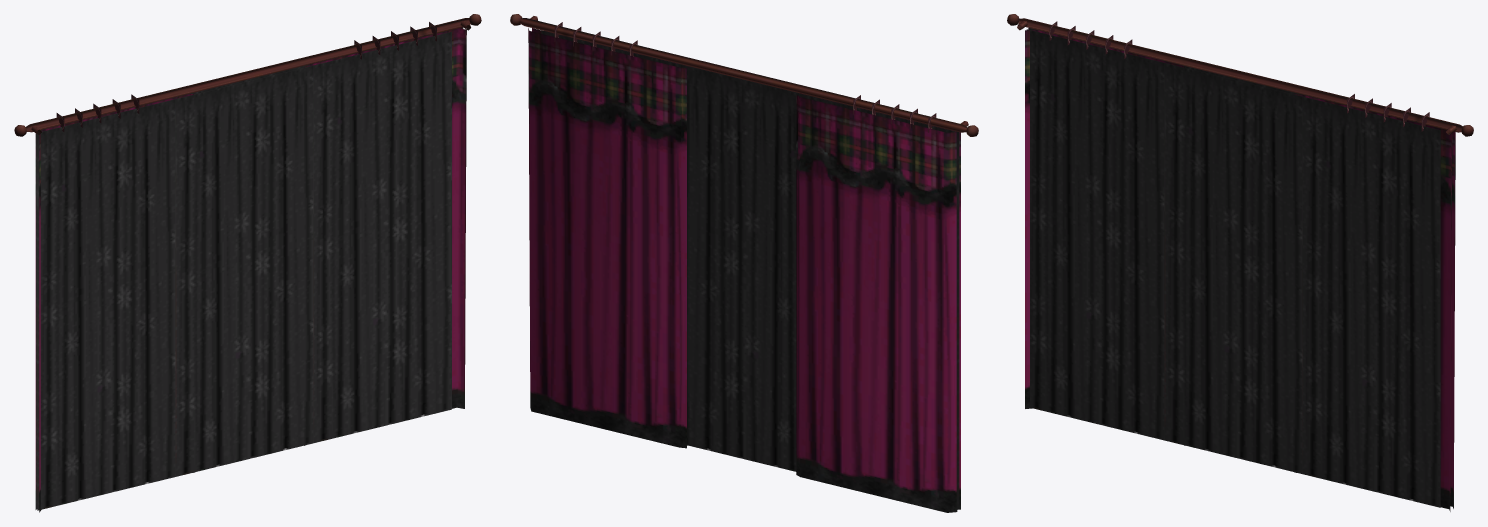
Rendered from furni_0200331.FBX.
3 renders of one model, left to right at view 1: azimuth 30°, elevation 25°; view 2: azimuth 150°, elevation 25°; view 3: azimuth 330°, elevation 25°, orthographic.
Visible parts, largest first — view 1: furni_0200331; view 2: furni_0200331; view 3: furni_0200331.
Boxes of the visible parts, bbox=[...] form: furni_0200331: bbox=[14, 14, 481, 512]; furni_0200331: bbox=[510, 14, 978, 512]; furni_0200331: bbox=[1007, 14, 1473, 511].
Size of the model in its own units: 353 by 282 by 13.37.
2 materials, 2 textured.
